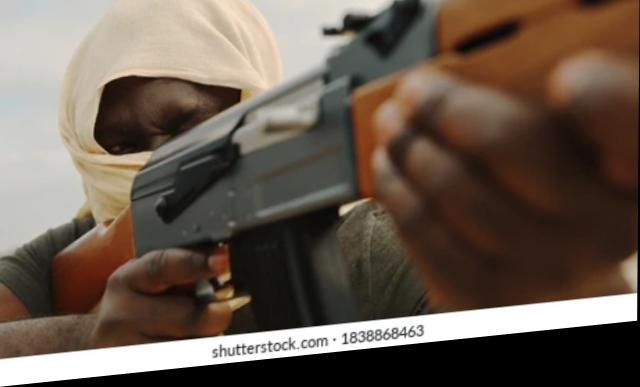other: (43, 0, 374, 349)
